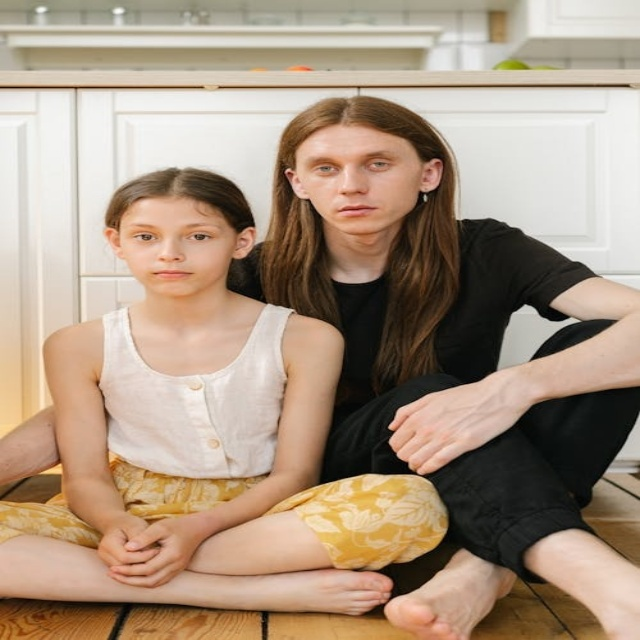Sin_gafas: (302, 154, 410, 180), (129, 222, 218, 247)
Sin_guantes: (378, 359, 539, 470), (84, 500, 214, 591)
Sin_mascara: (324, 199, 392, 224), (142, 265, 206, 288)
